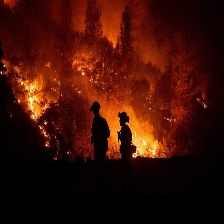fire: (131, 129, 158, 161), (24, 79, 44, 119), (79, 62, 93, 79)
smoke: (99, 2, 204, 101)
